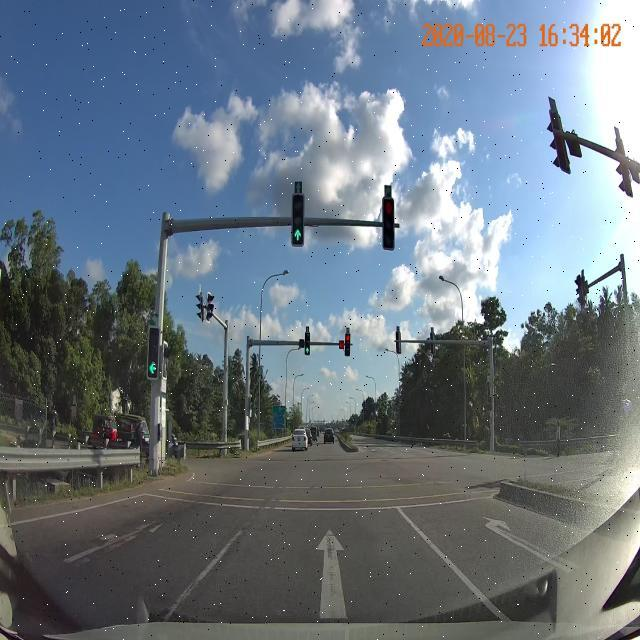forward: (152, 511, 518, 617)
